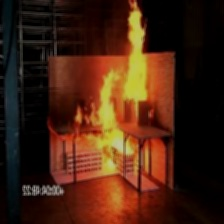fire: (105, 0, 162, 120), (91, 68, 128, 184)
